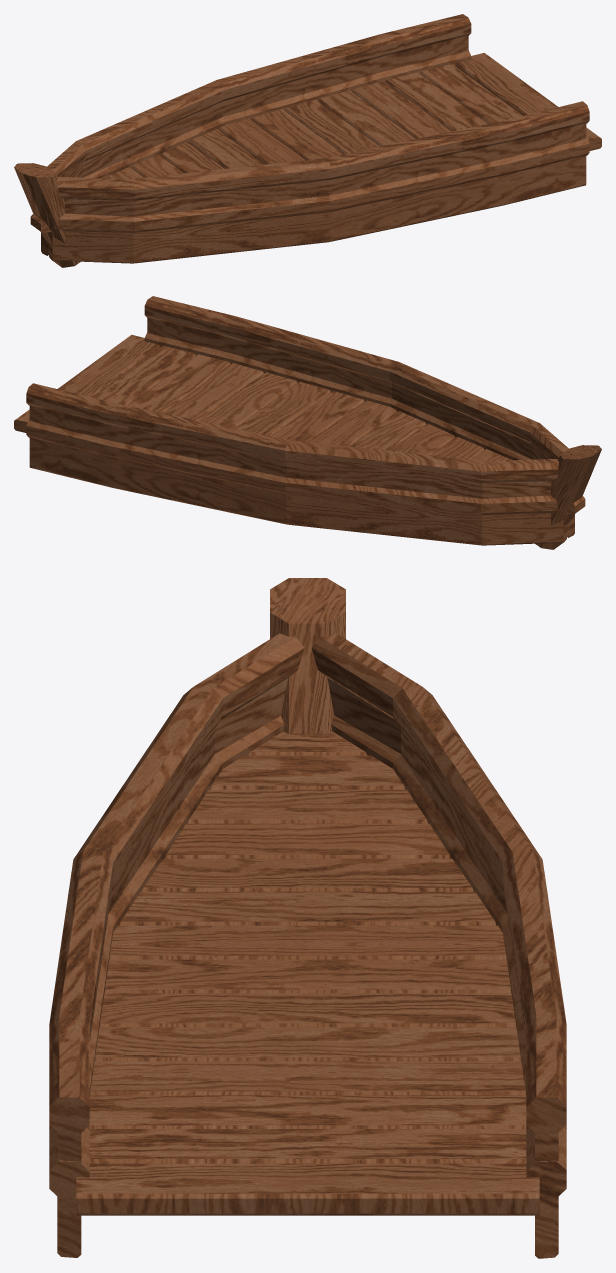
File: grave-diver-boat.fbx
3 renders of one model, top to bottom at view 1: azimuth 30°, elevation 25°; view 2: azimuth 150°, elevation 25°; view 3: azimuth 270°, elevation 25°, orthographic. The views are drawn at different scales.
Parts seen in each view (by area): view 1: Cube.001, Cube.002; view 2: Cube.001, Cube.002; view 3: Cube.002, Cube.001.
Boxes of the visible parts, left/top/right/bottom form: Cube.001: left=14, top=14, right=589, bottom=267; Cube.002: left=104, top=52, right=601, bottom=178; Cube.001: left=14, top=296, right=601, bottom=549; Cube.002: left=16, top=334, right=511, bottom=460; Cube.002: left=76, top=731, right=539, bottom=1215; Cube.001: left=49, top=578, right=566, bottom=1258.
Size of the model in its own units: 401 by 75.26 by 171.
